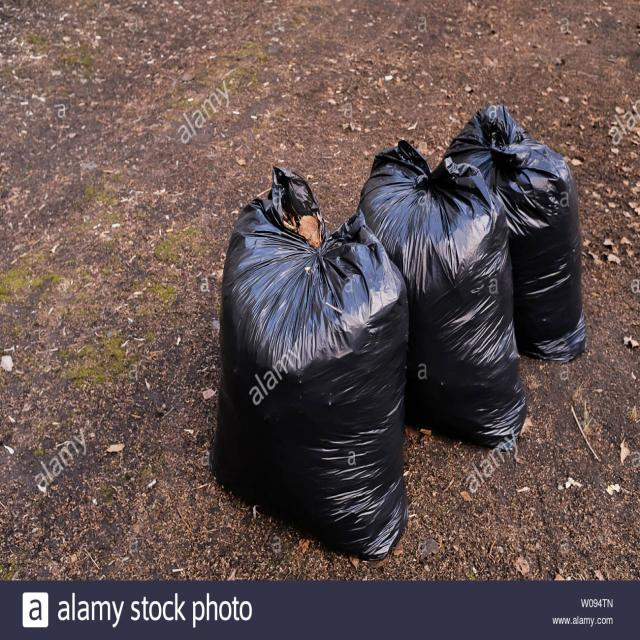plastic_bag: (207, 210, 408, 518), (363, 163, 514, 423), (454, 116, 588, 349)
